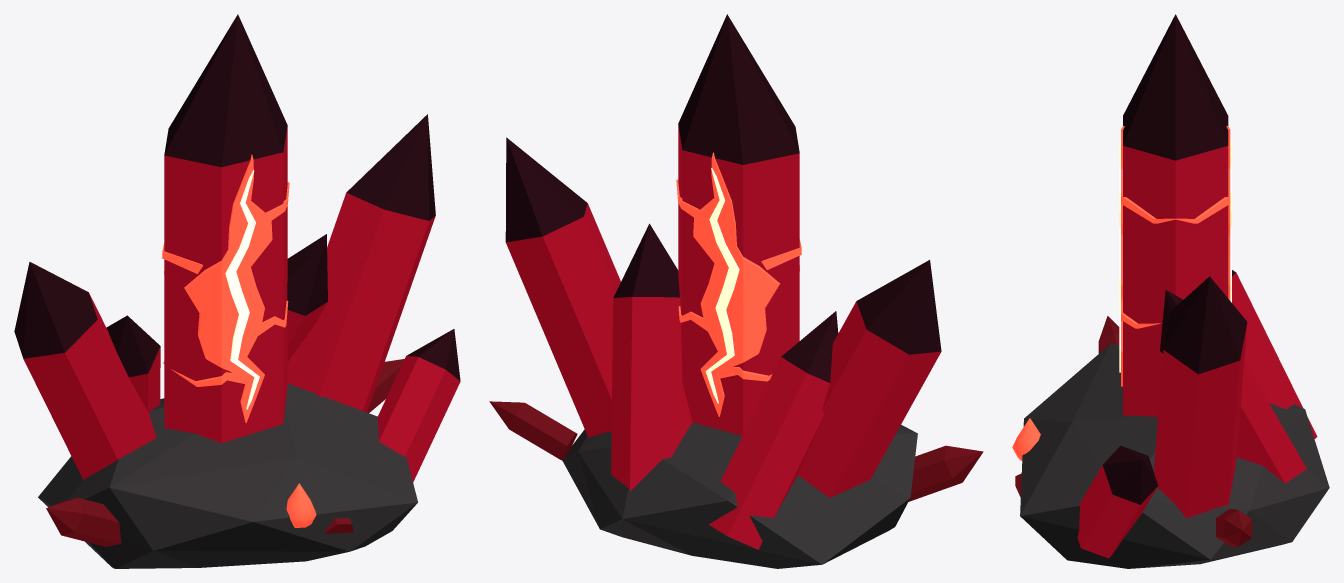
File: bloodrift_crystalline.glb
3 renders of one model, left to right at view 1: azimuth 30°, elevation 25°; view 2: azimuth 150°, elevation 25°; view 3: azimuth 270°, elevation 25°, orthographic.
Visible parts, largest first — view 1: bloodrift_crystalline; view 2: bloodrift_crystalline; view 3: bloodrift_crystalline.
Part boxes in pixels (bbox=[...]): bloodrift_crystalline: bbox=[14, 14, 460, 568]; bloodrift_crystalline: bbox=[489, 14, 983, 568]; bloodrift_crystalline: bbox=[1012, 14, 1329, 568].
Bounding box in the file's own units: 0.2545 × 0.28 × 0.1618.
